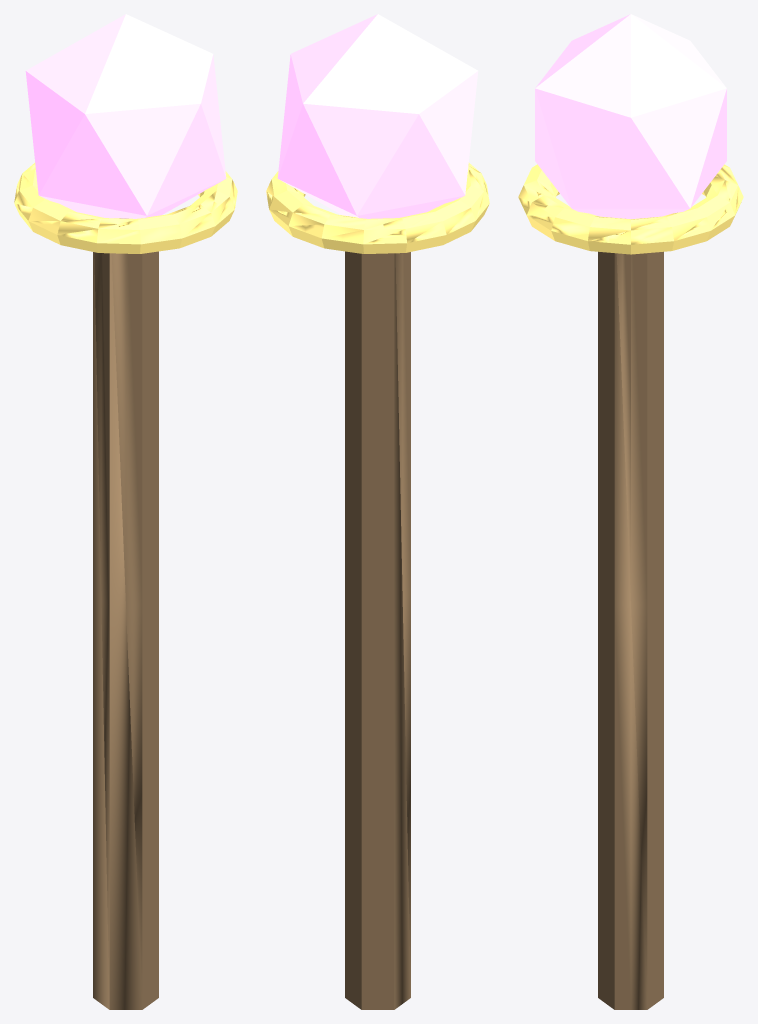
The model's file is staff.glb.
3 renders of one model, left to right at view 1: azimuth 30°, elevation 25°; view 2: azimuth 150°, elevation 25°; view 3: azimuth 270°, elevation 25°, orthographic.
Visible parts, largest first — view 1: StaffShaft; view 2: StaffShaft; view 3: StaffShaft.
Boxes of the visible parts, x1,y1,x2,y2 form: StaffShaft: (14, 14, 237, 1009); StaffShaft: (266, 14, 489, 1009); StaffShaft: (518, 14, 743, 1009).
Size of the model in its own units: 0.48 by 2.31 by 0.48.
